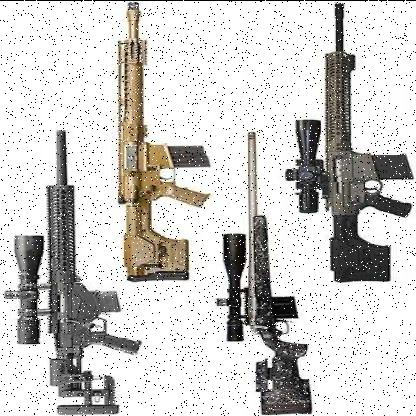rifle: (0, 108, 136, 415), (286, 1, 415, 288), (210, 114, 323, 416), (108, 0, 200, 293)
